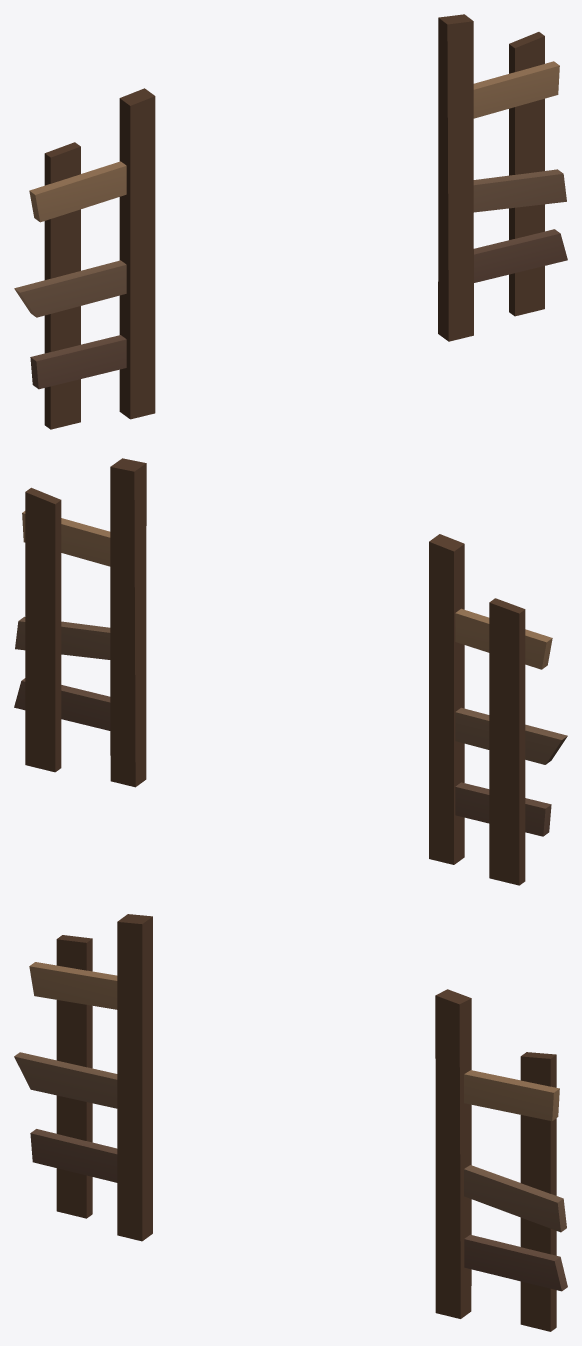
The model's file is Fence Wood V1 Entry.glb.
3 renders of one model, top to bottom at view 1: azimuth 30°, elevation 25°; view 2: azimuth 150°, elevation 25°; view 3: azimuth 330°, elevation 25°, orthographic.
Visible parts, largest first — view 1: Fence Wood V1 Entry; view 2: Fence Wood V1 Entry; view 3: Fence Wood V1 Entry.
Part boxes in pixels (<box>): Fence Wood V1 Entry: <box>14,14,567,429</box>; Fence Wood V1 Entry: <box>14,458,567,885</box>; Fence Wood V1 Entry: <box>14,914,567,1331</box>.
Size of what is drawn, in the model's own units: 2.94 by 1.63 by 0.1478.
1 material, 1 textured.
